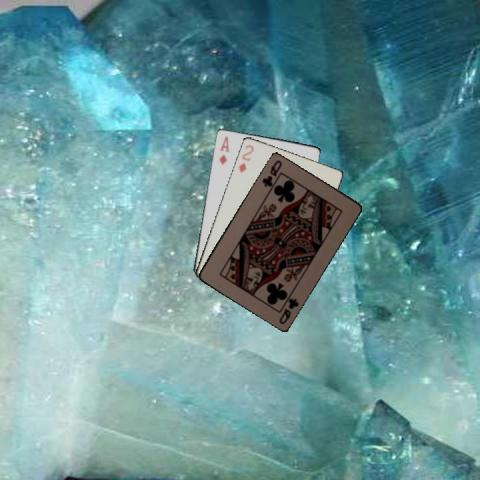2d: (235, 141, 255, 174)
Ad: (216, 133, 230, 166)
Qc: (276, 295, 301, 325), (260, 157, 284, 188)
